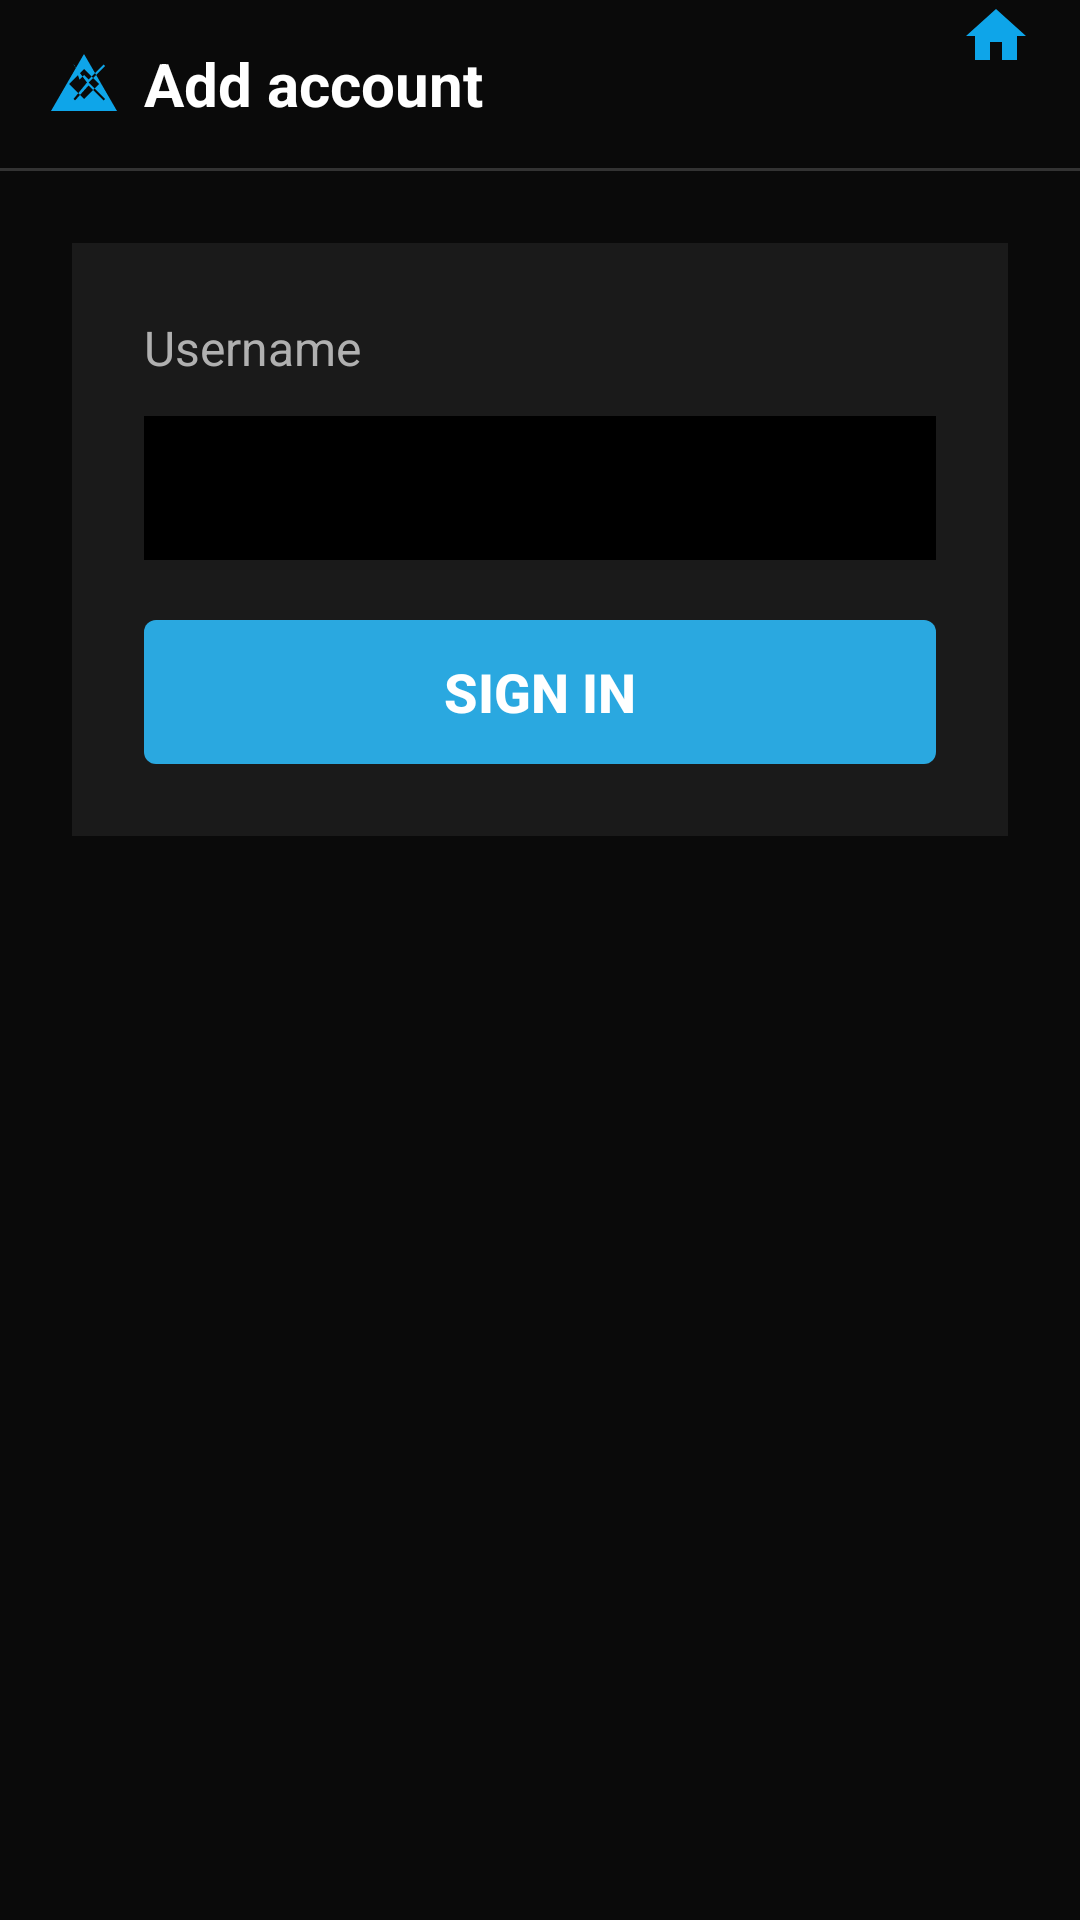

Screen size 1080x1920. Icon name, then its center in pixels as (x=x, y=y):
home: (x=996, y=34)
